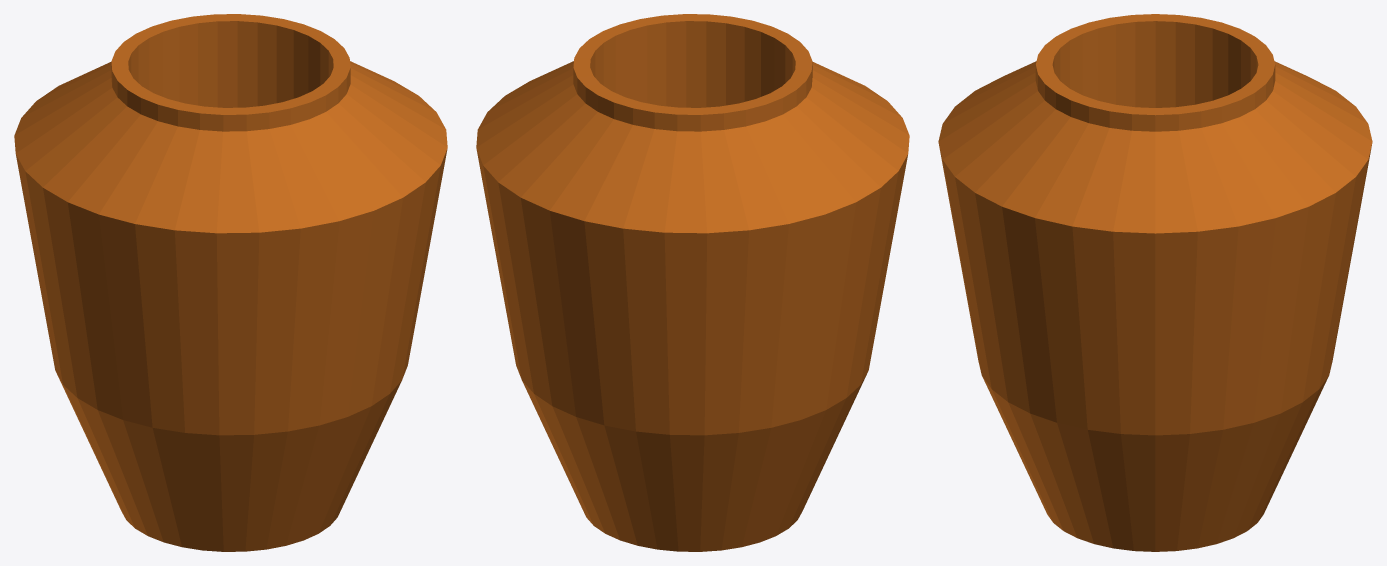
Rendered from pot 5.fbx.
The picture shows the model from 3 angles, left to right: view 1: azimuth 30°, elevation 25°; view 2: azimuth 150°, elevation 25°; view 3: azimuth 270°, elevation 25°; orthographic projection.
Visible parts, largest first — view 1: Cylinder; view 2: Cylinder; view 3: Cylinder.
Part boxes in pixels (x1,y1,x2,y2): Cylinder: [14, 14, 447, 551]; Cylinder: [476, 14, 909, 551]; Cylinder: [938, 14, 1372, 551].
Size of the model in its own units: 109 by 122 by 109.
Materials: 1 (1 with a texture image).
